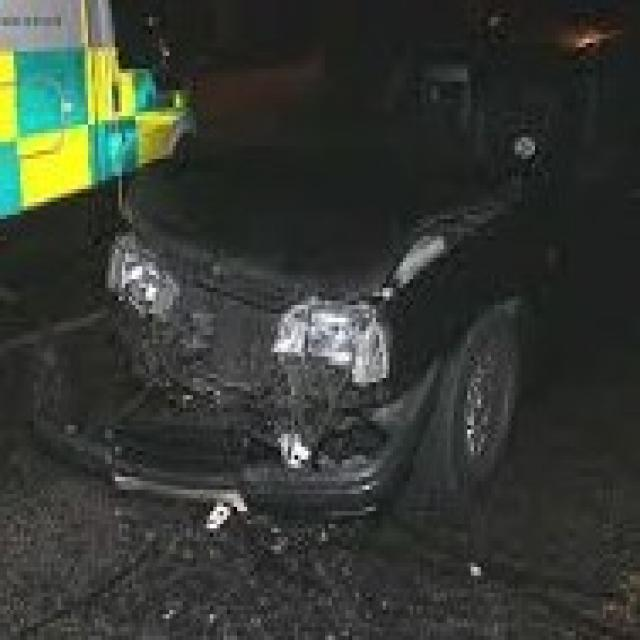moderate: (36, 177, 460, 580)
